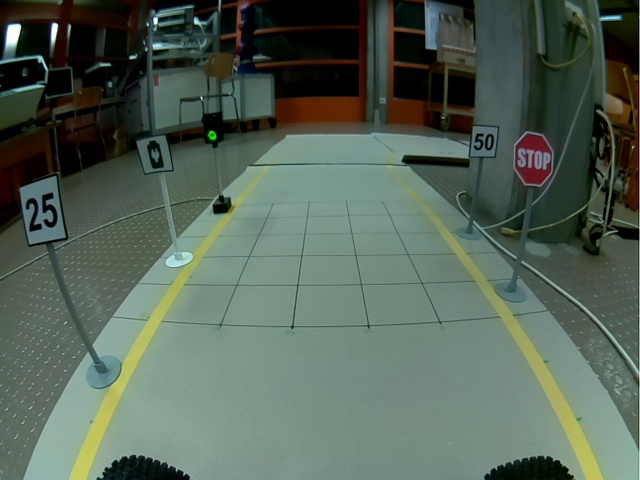battery: (136, 134, 175, 175)
speed25: (18, 171, 69, 247)
speed50: (469, 124, 500, 158)
stop: (513, 131, 553, 187)
trafficLightGreen: (201, 112, 225, 144)
